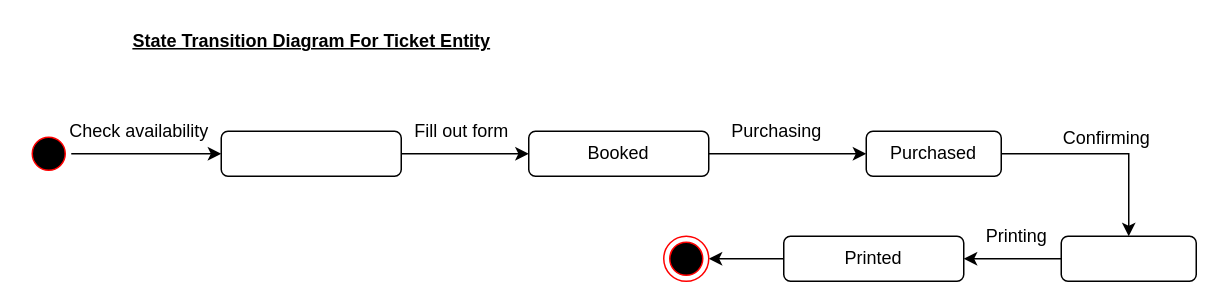
The diagram is 1223 pixels wide and 308 high, and some of its shapes have lost their labels. Here are the shapes that lost their labels. From the top down, the box of each, then its label:
(220, 130, 401, 176): Available
(1060, 235, 1196, 281): Confirmed
